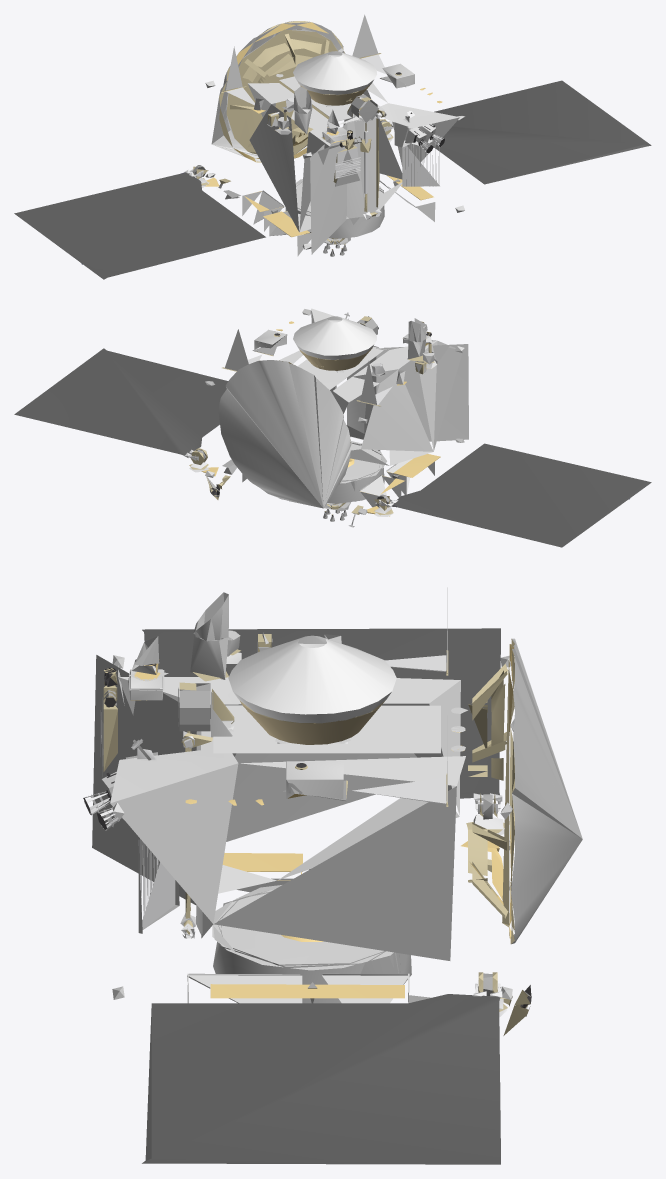
The model's file is osirisrex_lod2.glb.
3 renders of one model, top to bottom at view 1: azimuth 30°, elevation 25°; view 2: azimuth 150°, elevation 25°; view 3: azimuth 270°, elevation 25°, orthographic. The views are drawn at different scales.
Visible parts, largest first — view 1: osirisrex_lod2; view 2: osirisrex_lod2; view 3: osirisrex_lod2.
Part boxes in pixels (left/top/right/bottom): osirisrex_lod2: left=14, top=14, right=651, bottom=279; osirisrex_lod2: left=14, top=308, right=651, bottom=547; osirisrex_lod2: left=83, top=587, right=582, bottom=1164.
Size of the model in its own units: 8.29 by 2.86 by 3.28.
